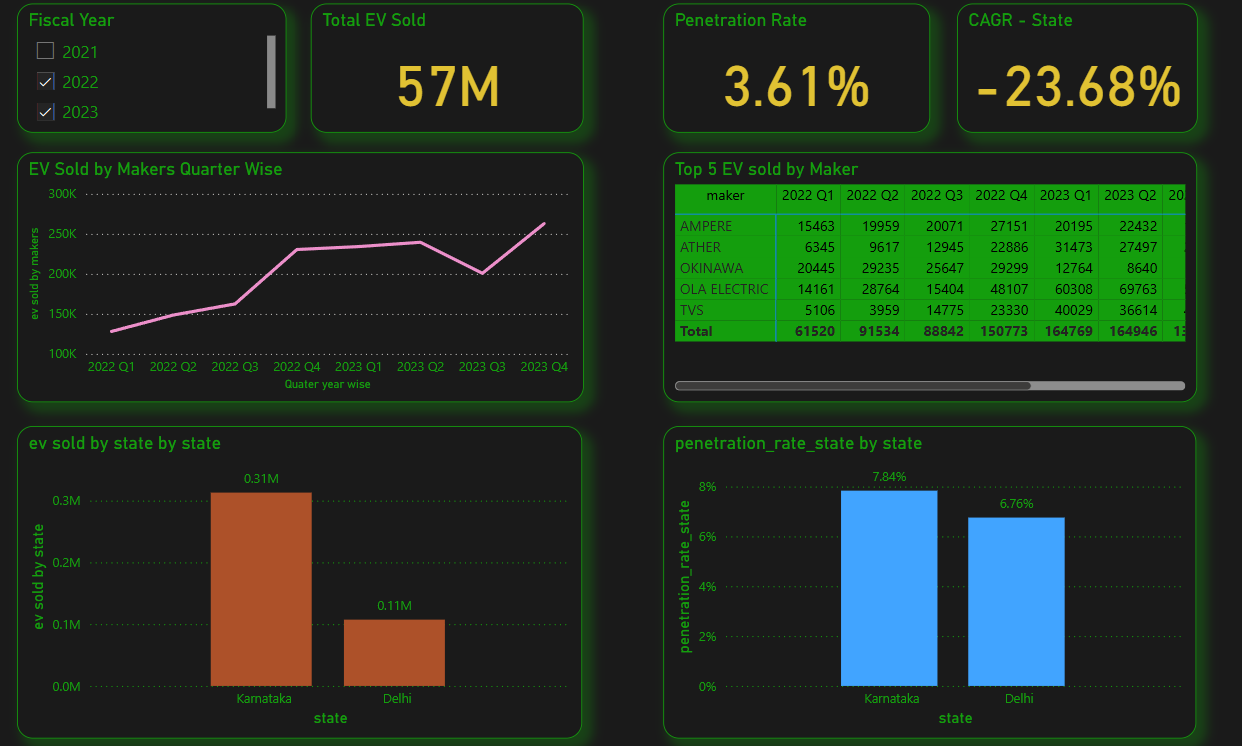

The page's visual inventory and layout, read from the dashboard file:
{"tool":"powerbi","page":{"name":"Dashboard","canvas":[1280,720],"ordinal":1},"visuals":[{"type":"pivotTable","title":"Top 5 EV sold by Maker","fields":{"Rows":["ev_sales_by_makers.maker"],"Columns":["ev_sales_by_makers.Quater year wise"],"Values":["Key Metrics.Ev_sold_by_makers"]},"box":[640.1,147.6,505.3,237],"z":0},{"type":"slicer","title":"Fiscal Year","fields":{"Values":["ev_sales_by_makers.year"]},"box":[28.4,7.1,255.5,122.1],"z":1000},{"type":"clusteredColumnChart","fields":{"Category":["ev_sales_by_state.state"],"Y":["Key Metrics.ev sold by state"]},"box":[28.8,407.5,535.2,296.4],"z":2000},{"type":"clusteredColumnChart","fields":{"Category":["ev_sales_by_state.state"],"Y":["Key Metrics.penetration_rate_state"]},"box":[640.8,407.5,505,296.4],"z":3000},{"type":"lineChart","title":"EV Sold by Makers Quarter Wise","fields":{"Category":["ev_sales_by_makers.Quater year wise"],"Y":["Key Metrics.Ev_sold_by_makers"]},"box":[28.4,147.6,536.5,237],"z":4000},{"type":"card","title":"Total EV Sold","fields":{"Values":["Key Metrics.Total sold by state"]},"box":[306.6,7.1,258.3,122.1],"z":5000},{"type":"card","title":"Penetration Rate","fields":{"Values":["Key Metrics.penetration_rate_state"]},"box":[640.8,6.9,252.5,122.1],"z":6000},{"type":"card","title":"CAGR - State","fields":{"Values":["Key Metrics.CAGR-S"]},"box":[918,6.9,227.8,122.1],"z":7000}]}

Visuals, with their boxes on the page's 1280x720 design canvas (x1, y1, x2, y2). These are canvas units, not pixel positions in the 1242x746 screenshot, which may show the page scaled, cropped or inside an application window:
"Top 5 EV sold by Maker" pivotTable: box(640, 148, 1145, 385)
"Fiscal Year" slicer: box(28, 7, 284, 129)
clusteredColumnChart - ev_sales_by_state.state x Key Metrics.ev sold by state: box(29, 408, 564, 704)
clusteredColumnChart - ev_sales_by_state.state x Key Metrics.penetration_rate_state: box(641, 408, 1146, 704)
"EV Sold by Makers Quarter Wise" lineChart: box(28, 148, 565, 385)
"Total EV Sold" card: box(307, 7, 565, 129)
"Penetration Rate" card: box(641, 7, 893, 129)
"CAGR - State" card: box(918, 7, 1146, 129)
